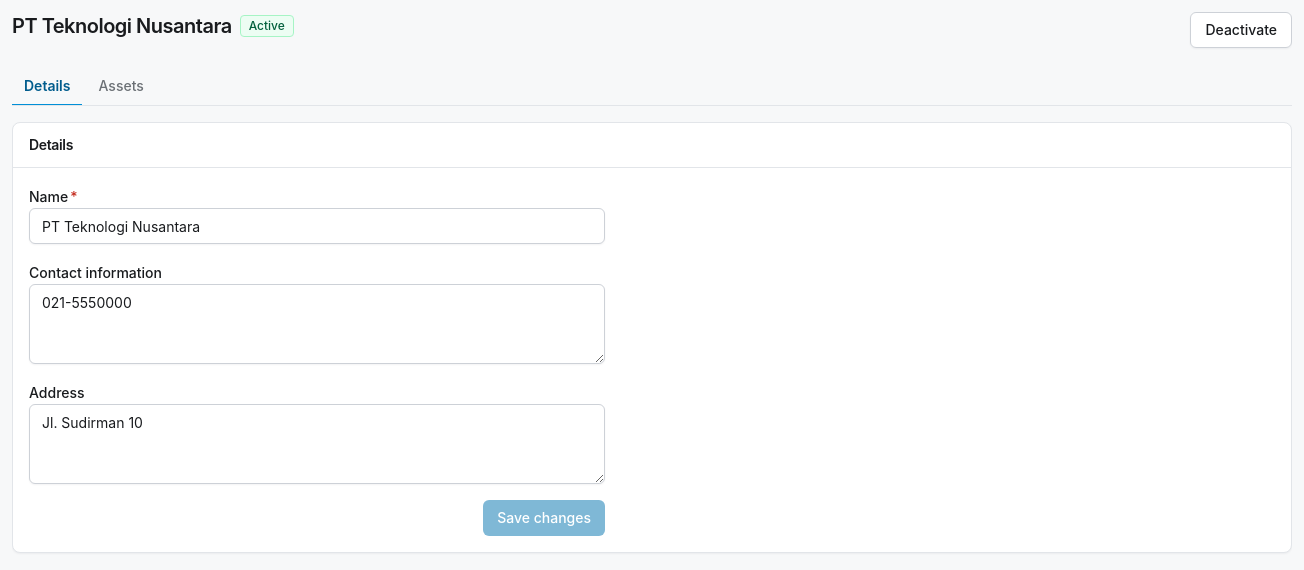
VendorDetailPage › keeps Save disabled until something changes
expect the heading "PT Teknologi Nusantara" is shown: met, box [12,12,232,40]
expect the button "Save changes" is disabled: met, box [483,500,605,536]
Type " Jaya" into the field labelled "Name*".
click(317, 226); type(" Jaya")  # box [29,208,605,244]
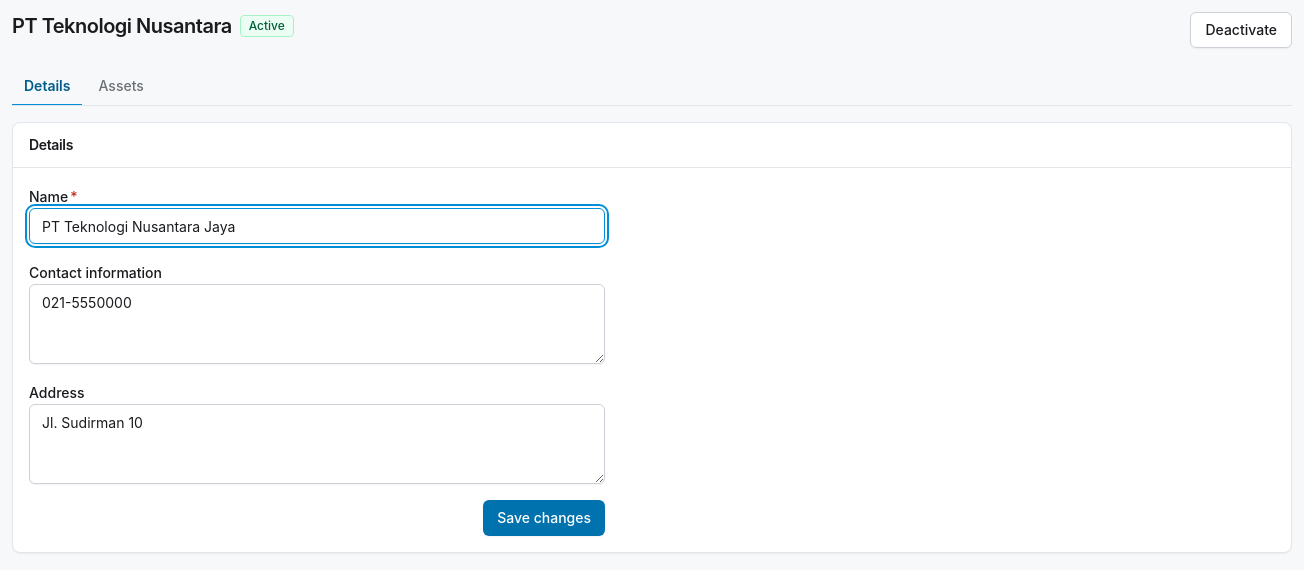
expect the button "Save changes" is enabled: met, box [483,500,605,536]
